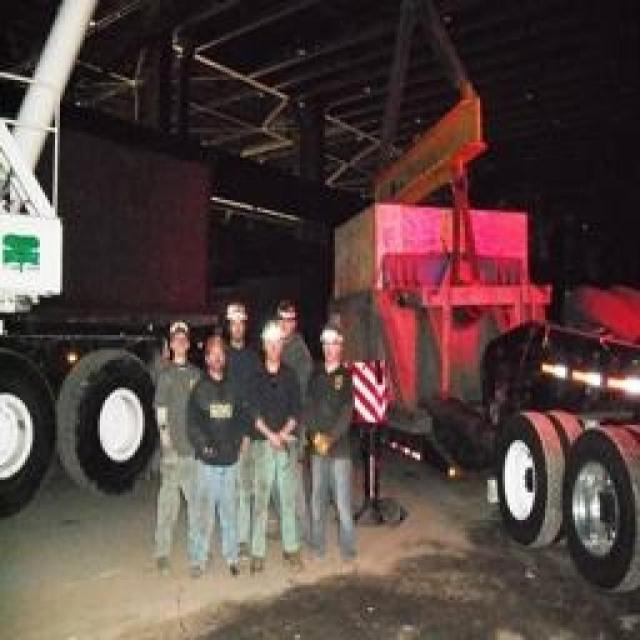Helmet: (306, 364, 364, 488), (185, 372, 250, 470), (150, 353, 199, 479), (253, 369, 309, 463), (272, 331, 314, 442), (223, 346, 259, 436), (190, 316, 233, 380), (156, 306, 192, 372), (218, 297, 256, 347), (313, 319, 349, 371), (272, 290, 304, 343), (255, 319, 283, 376)
